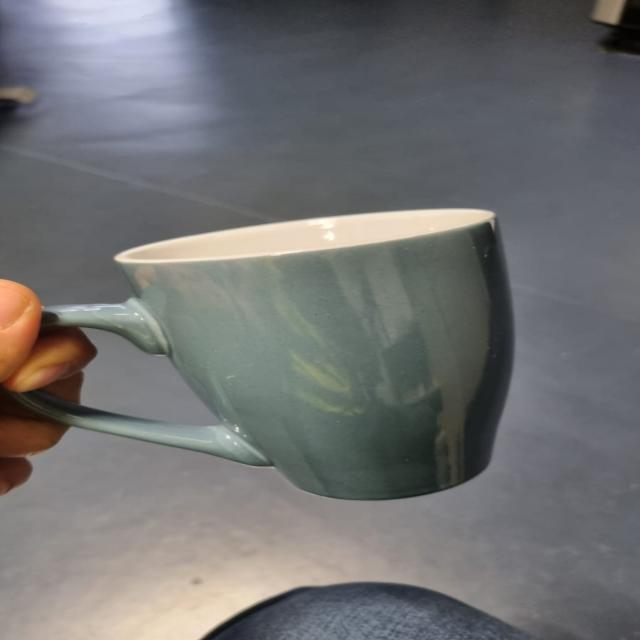Cup: (13, 209, 513, 500)
